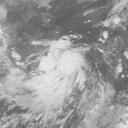cyclone: (37, 38, 90, 94)
